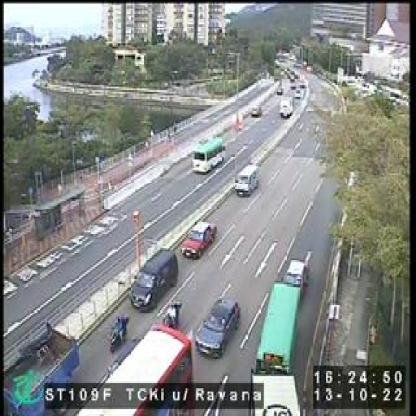Bus: (72, 327, 195, 416)
Car: (128, 245, 178, 310), (196, 296, 239, 356), (182, 218, 218, 259), (233, 164, 262, 198), (283, 260, 307, 286)
Minibus: (255, 285, 302, 379), (193, 134, 226, 174)
